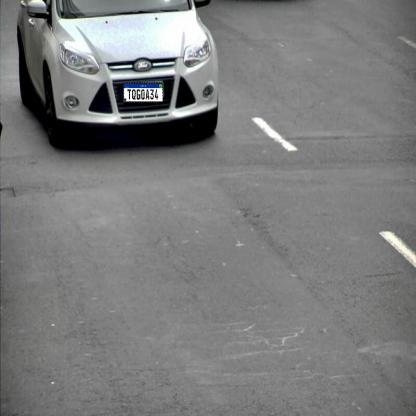PlacaM: (124, 82, 164, 102)
